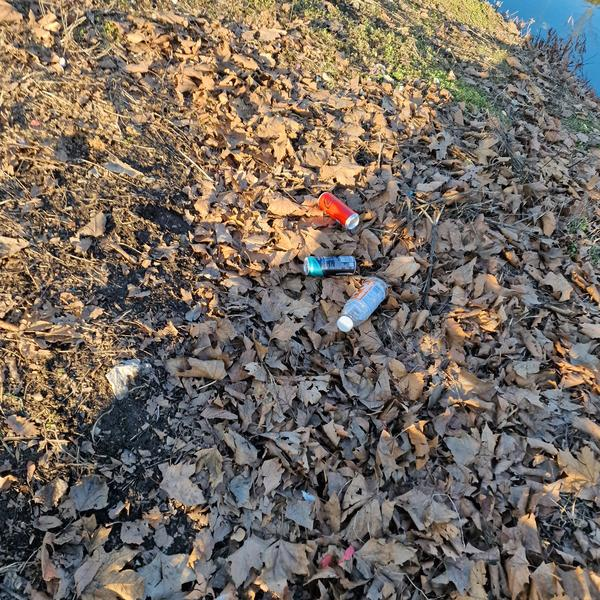can: (313, 188, 363, 234), (304, 255, 356, 277)
plastic_bottle: (331, 271, 393, 338)
